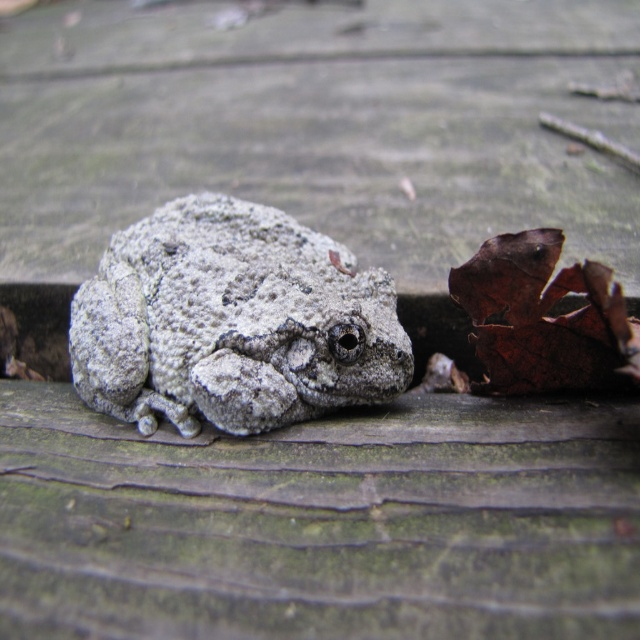Frog: (68, 187, 412, 438)
